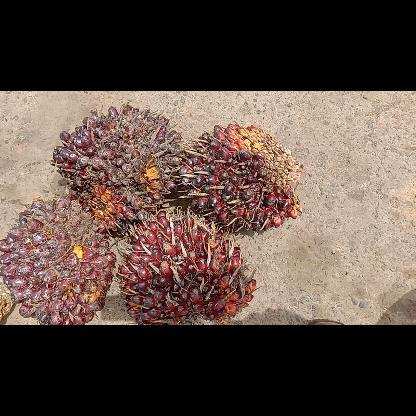Kurang masak: (48, 100, 182, 236), (116, 206, 258, 324)
TBS mentah: (0, 195, 117, 325), (178, 119, 305, 235)
